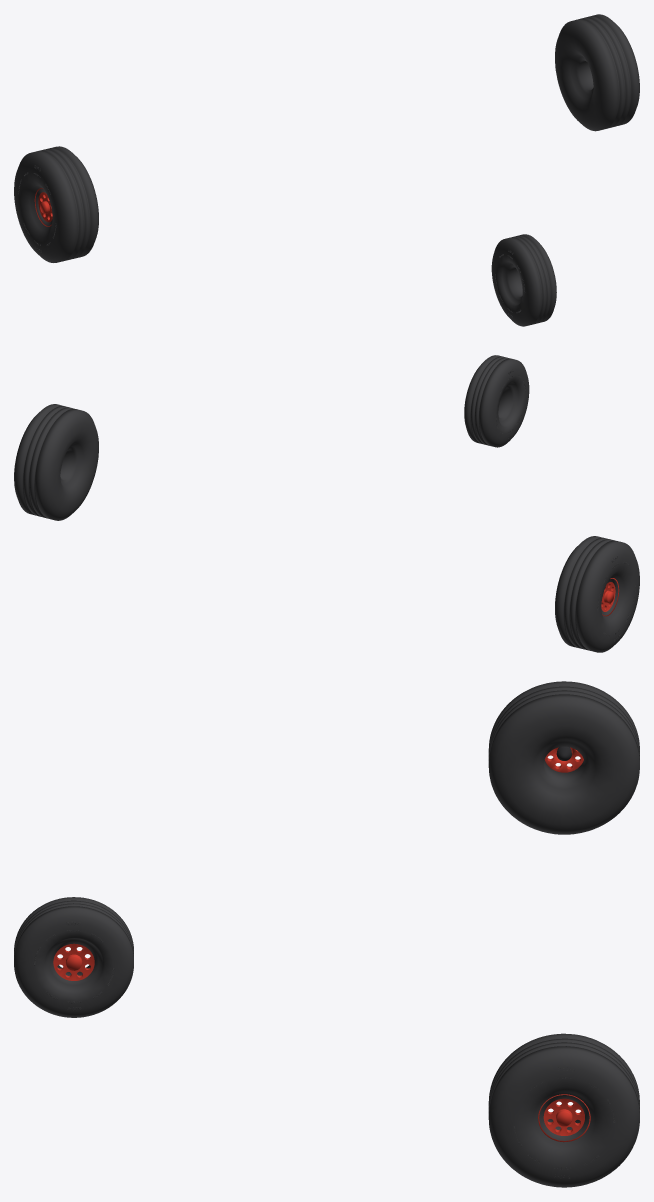
Rendered from da40-wheels.glb.
3 views of the same model, one above another, from view 1: azimuth 30°, elevation 25°; view 2: azimuth 150°, elevation 25°; view 3: azimuth 270°, elevation 25° (orthographic). The views are drawn at different scales.
Parts seen in each view (by area): view 1: Tundra tyre L, Tundra tyre R, Tundra tyre N; view 2: Tundra tyre L, Tundra tyre R, Tundra tyre N; view 3: Tundra tyre R, Tundra tyre L, Tundra tyre N, Beringer wheel L, Beringer wheel N.
Part boxes in pixels (x1,y1,x2,y2): Tundra tyre L: [555, 14, 639, 131]; Tundra tyre R: [14, 146, 98, 262]; Tundra tyre N: [491, 234, 556, 326]; Tundra tyre L: [14, 404, 98, 520]; Tundra tyre R: [555, 536, 639, 652]; Tundra tyre N: [464, 355, 529, 447]; Tundra tyre R: [488, 681, 639, 834]; Tundra tyre L: [488, 1033, 639, 1187]; Tundra tyre N: [14, 897, 133, 1017]; Beringer wheel L: [538, 1094, 590, 1142]; Beringer wheel N: [53, 943, 94, 980].
Bounding box in the file's own units: 3.29 × 0.5575 × 2.3.
